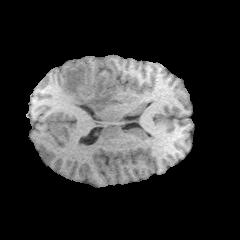glioma: (63, 64, 122, 112)
